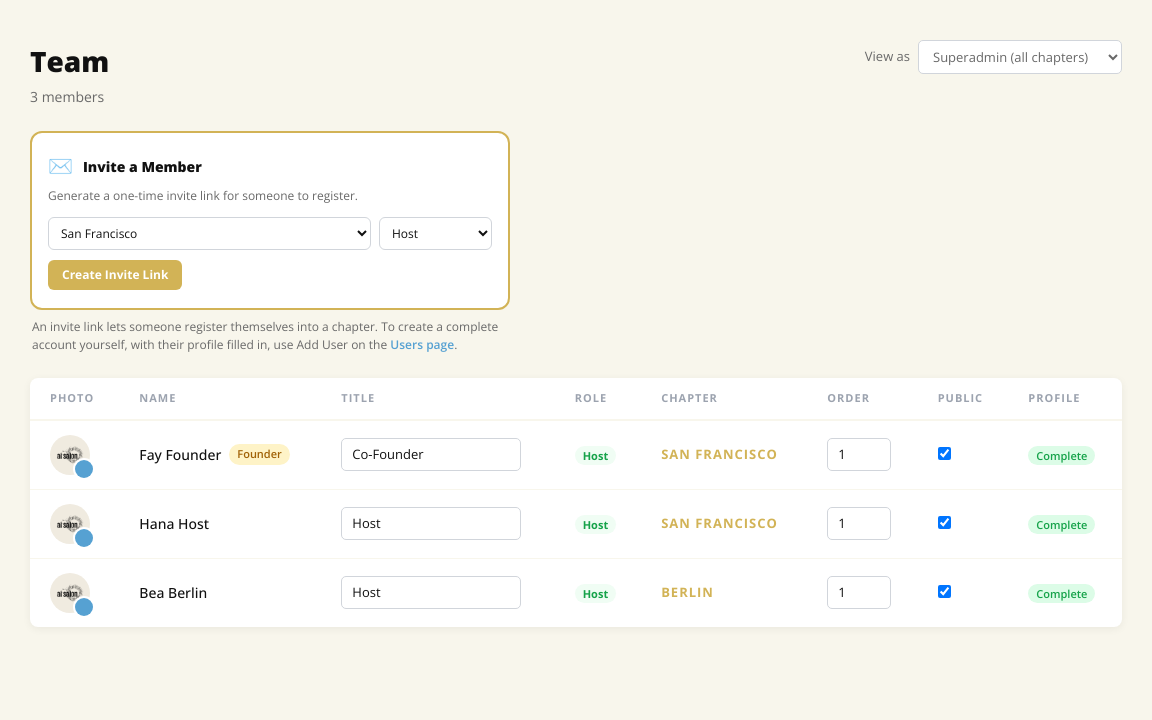
Test: PeoplePage for a superadmin › can preview the page as a chapter lead and exit again
The image size is (1152, 720).
Expected: the text "Bea Berlin" is shown, [139,582,207,603]
Expected: the field named "Title for Fay Founder" is shown, [341,438,521,471]
Select "San Francisco chapter lead" in the dropdown named "View as chapter" at x=1020, y=57, box [918,40,1122,74]
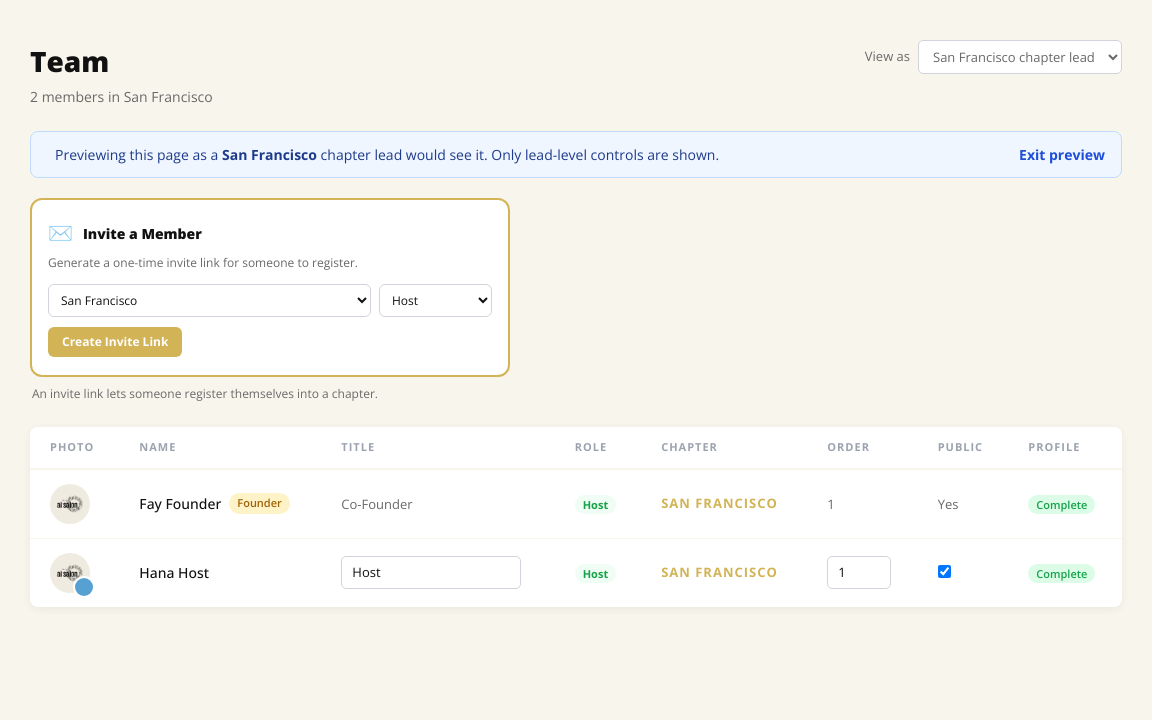
Expected: the text "Bea Berlin" is gone
Expected: the message shows "San Francisco", [222,145,317,164]
Expected: the link "Users page" is gone
Click the button "Exit preview" at x=1062, y=154, box [1019,144,1105,165]
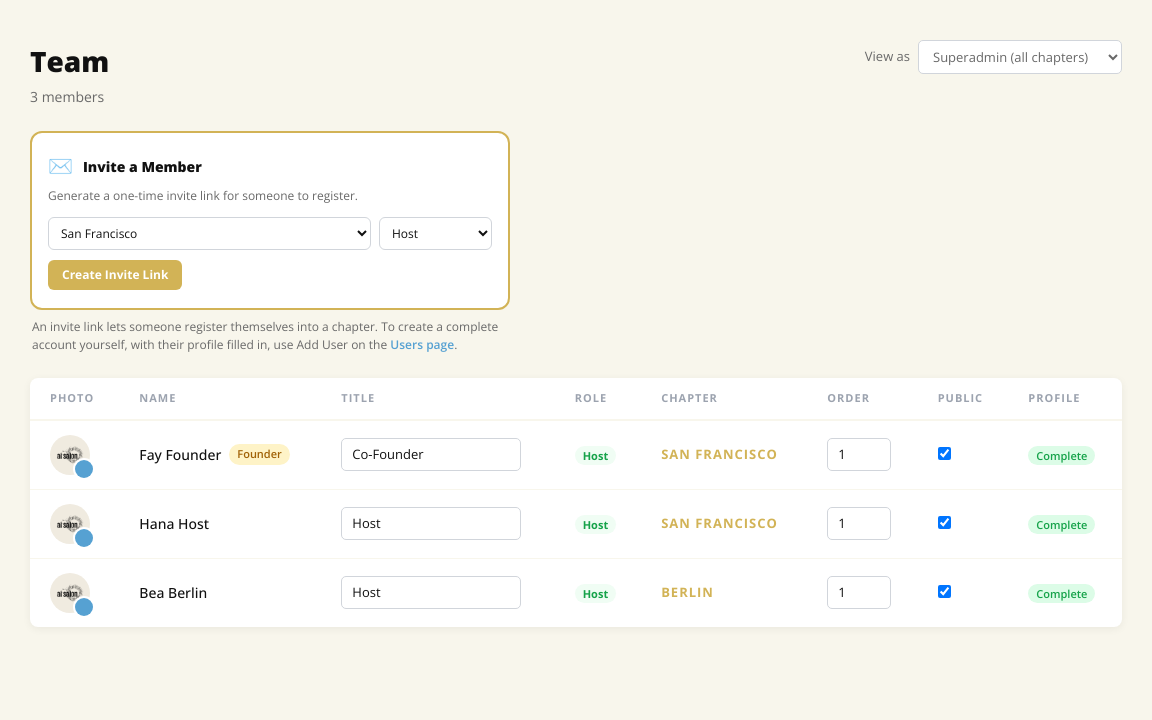
Expected: the text "Bea Berlin" is shown, [139,582,207,603]
Expected: the field named "Title for Fay Founder" is shown, [341,438,521,471]
